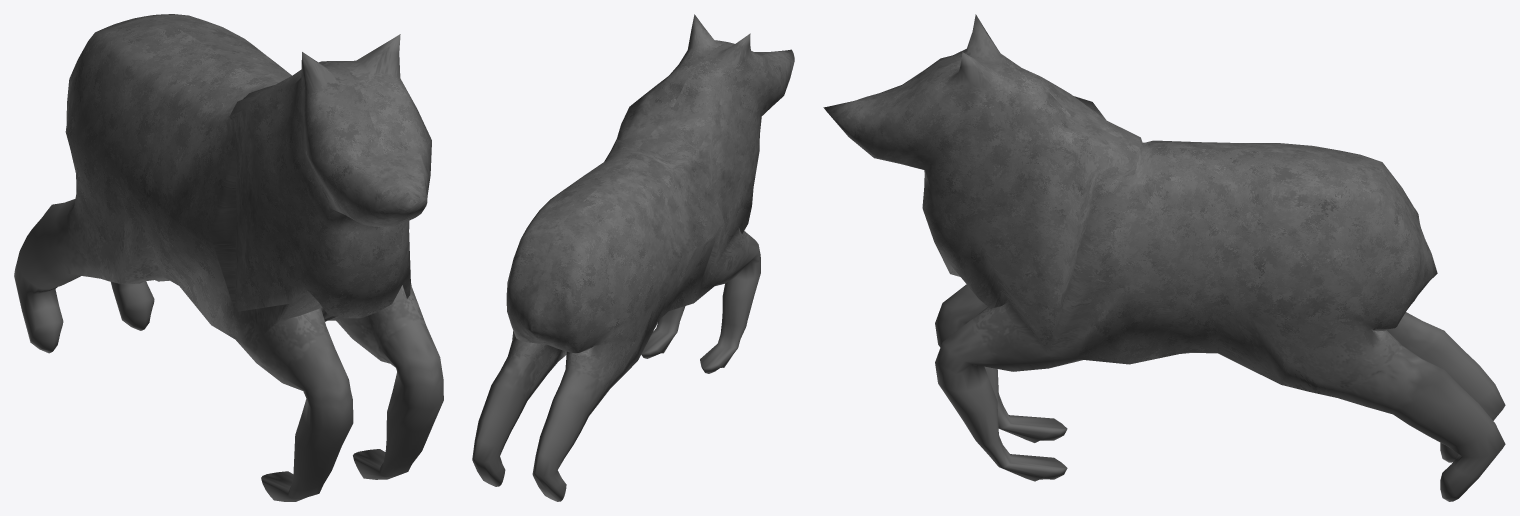
The model's file is piesblend_000011.obj.
3 views of the same model, side by side, from view 1: azimuth 30°, elevation 25°; view 2: azimuth 150°, elevation 25°; view 3: azimuth 270°, elevation 25° (orthographic). The views are drawn at different scales.
Visible parts, largest first — view 1: Cube; view 2: Cube; view 3: Cube.
Boxes of the visible parts, x1,y1,x2,y2 form: Cube: (14, 14, 443, 501); Cube: (472, 14, 794, 501); Cube: (823, 14, 1505, 501).
Bounding box in the file's own units: 2.55 × 6.6 × 9.22.
1 material, 1 textured.
